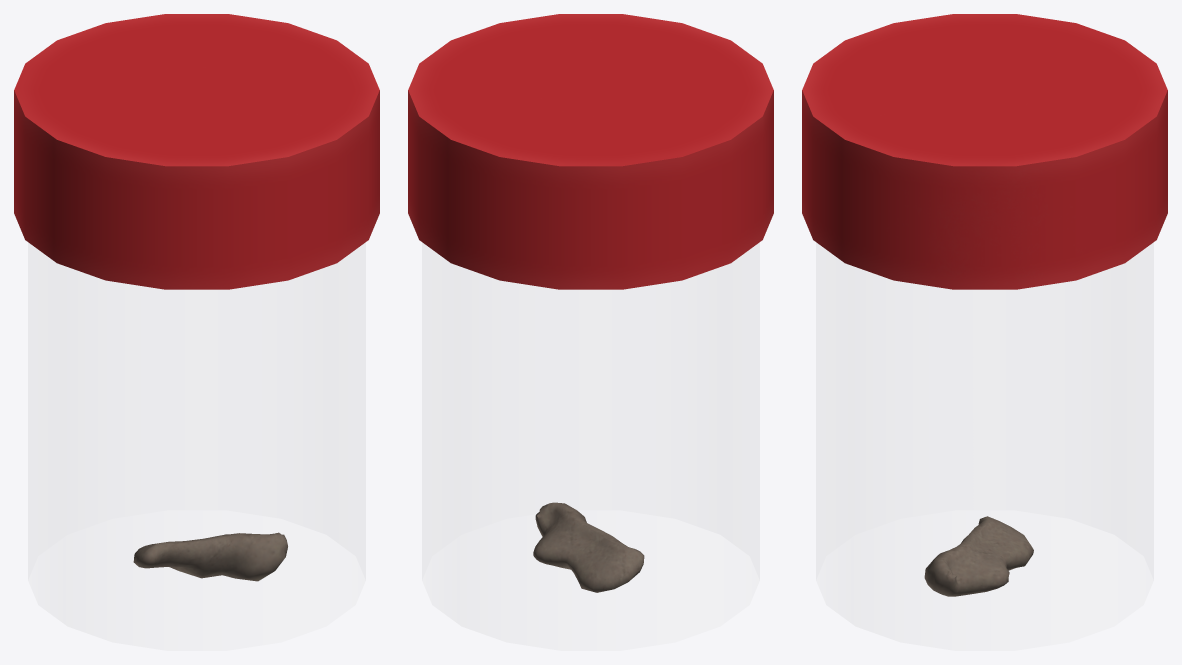
The model's file is 3粪便样本.glb.
The picture shows the model from 3 angles, left to right: view 1: azimuth 30°, elevation 25°; view 2: azimuth 150°, elevation 25°; view 3: azimuth 270°, elevation 25°; orthographic projection.
Visible parts, largest first — view 1: 粪便样本.001, 粪便.001; view 2: 粪便样本.001, 粪便.001; view 3: 粪便样本.001, 粪便.001.
Boxes of the visible parts, box(x1,y1,x2,y2) form: 粪便样本.001: box(14, 14, 379, 289); 粪便.001: box(133, 532, 287, 581); 粪便样本.001: box(408, 14, 773, 289); 粪便.001: box(533, 502, 644, 592); 粪便样本.001: box(802, 14, 1167, 289); 粪便.001: box(924, 516, 1033, 596).
Size of the model in its own units: 0.1323 by 0.1988 by 0.1343.
1 material, 1 textured.
